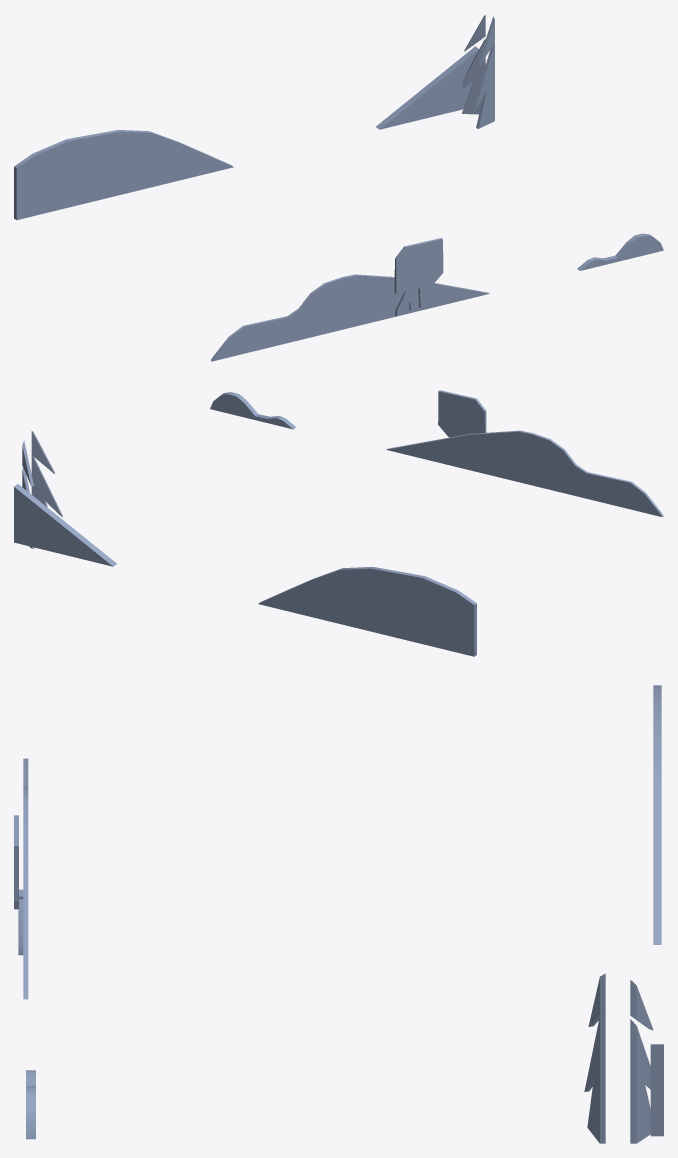
Rendered from frame_0073.glb.
The picture shows the model from 3 angles, top to bottom: view 1: azimuth 30°, elevation 25°; view 2: azimuth 150°, elevation 25°; view 3: azimuth 270°, elevation 25°; orthographic projection. The views are drawn at different scales.
Parts seen in each view (by area): view 1: export_trees_001.002; view 2: export_trees_001.002; view 3: export_trees_001.002.
Boxes of the visible parts, left/top/right/bottom form: export_trees_001.002: left=14, top=15, right=663, bottom=361; export_trees_001.002: left=14, top=390, right=663, bottom=656; export_trees_001.002: left=14, top=685, right=663, bottom=1143.
Size of the model in its own units: 0.4327 by 0.0928 by 0.321.
